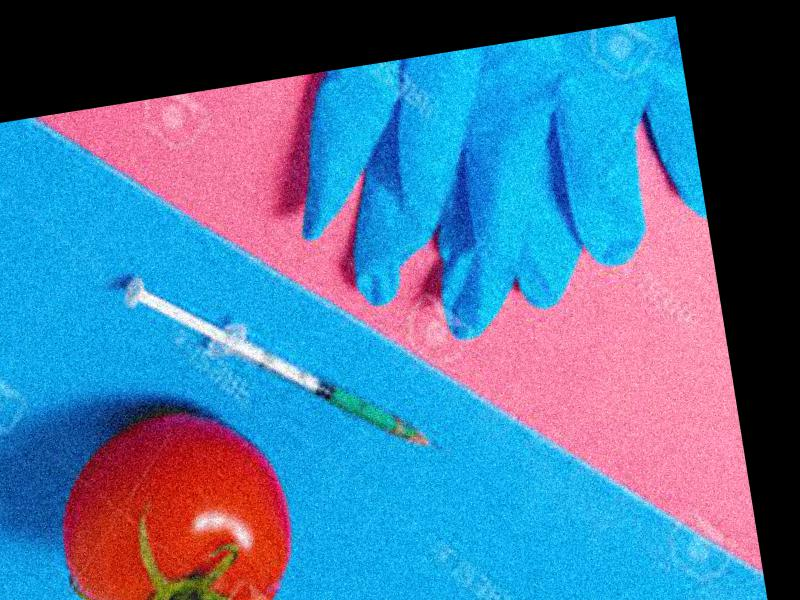Tomato: (49, 395, 306, 600)
